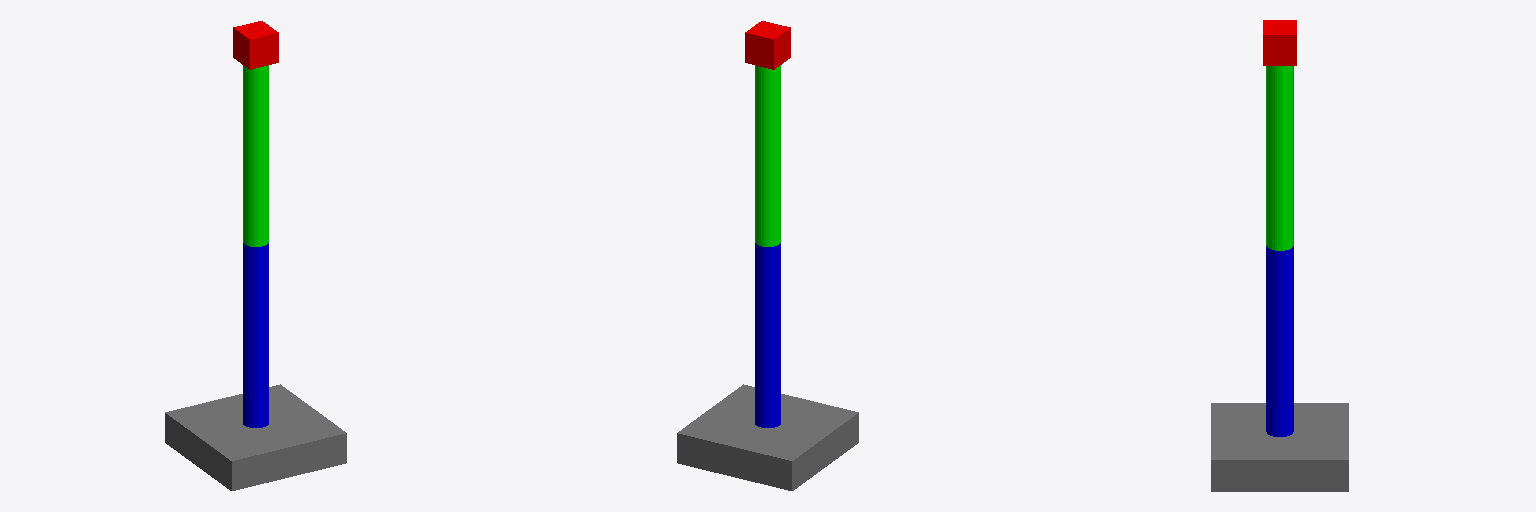
URDF robot description (simple_arm):
<robot xmlns:xacro="http://ros.org/wiki/xacro" name="simple_arm">

    <link name="world"/>
    <joint name="world_to_base" type="fixed">
        <parent link="world"/>
        <child link="base_link"/>
        <origin xyz="-1 -1 0" rpy="0 0 0"/>
    </joint>
    <!--  Base Link  -->
    <link name="base_link">
        <visual>
            <geometry>
                <box size="0.2 0.2 0.05"/>
            </geometry>
            <origin xyz="0 0 0.025"/>
            <material name="gray">
                <color rgba="0.5 0.5 0.5 1"/>
            </material>
        </visual>
    </link>
    <!--  Link1  -->
    <link name="link1">
        <visual>
            <geometry>
                <cylinder length="0.3" radius="0.02"/>
            </geometry>
            <origin xyz="0 0 0.15" rpy="0 0 0"/>
            <material name="blue">
                <color rgba="0 0 1 1"/>
            </material>
        </visual>
    </link>
    <joint name="joint1" type="revolute">
        <parent link="base_link"/>
        <child link="link1"/>
        <origin xyz="0 0 0.05" rpy="0 0 0"/>
        <axis xyz="0 0 1"/>
        <limit lower="-3.14" upper="3.14" effort="1.0" velocity="1.0"/>
    </joint>
    <!--  Link2  -->
    <link name="link2">
        <visual>
            <geometry>
                <cylinder length="0.3" radius="0.02"/>
            </geometry>
            <origin xyz="0 0 0.15" rpy="0 0 0"/>
            <material name="green">
                <color rgba="0 1 0 1"/>
            </material>
        </visual>
    </link>

    <joint name="joint2" type="revolute">
        <parent link="link1"/>
        <child link="link2"/>
        <origin xyz="0 0 0.3" rpy="0 0 0"/>
        <axis xyz="0 1 0"/>
        <limit lower="-3.14" upper="3.14" effort="1.0" velocity="1.0"/>
    </joint>
    <!--  Camera  -->
    <link name="camera_link">
        <visual>
            <geometry>
                <box size="0.05 0.05 0.05"/>
            </geometry>
            <origin xyz="0 0 0.025"/>
            <material name="red">
                <color rgba="1 0 0 1"/>
            </material>
        </visual>
    </link>

    <joint name="camera_joint" type="fixed">
        <parent link="link2"/>
        <child link="camera_link"/>
        <origin xyz="0 0 0.3" rpy="0 0 0"/>
    </joint>
</robot>

--- What the picture shows (computed from the rendered views, not written in the file) ---
Views: 3 orthographic renders of the robot side by side, from view 1: azimuth 30°, elevation 25°; view 2: azimuth 150°, elevation 25°; view 3: azimuth 270°, elevation 25°.
Model simple_arm with 5 links and 4 joints (2 revolute, 2 fixed), rooted at world, posed every joint at zero.
Visible links, largest first — view 1: base_link, link1, link2, camera_link; view 2: base_link, link1, link2, camera_link; view 3: base_link, link1, link2, camera_link.
Link boxes in pixels (x1,y1,x2,y2): base_link: [165, 384, 346, 490]; link1: [243, 243, 268, 427]; link2: [243, 65, 268, 246]; camera_link: [233, 21, 278, 69]; base_link: [677, 384, 858, 490]; link1: [755, 243, 780, 427]; link2: [755, 65, 780, 246]; camera_link: [745, 21, 790, 69]; base_link: [1211, 403, 1348, 491]; link1: [1266, 246, 1293, 436]; link2: [1266, 66, 1293, 250]; camera_link: [1263, 20, 1296, 65].
Size in the robot's own frame: 0.2 by 0.2 by 0.7 metres.
Geometry: primitives only (box / cylinder / sphere), no mesh files.
